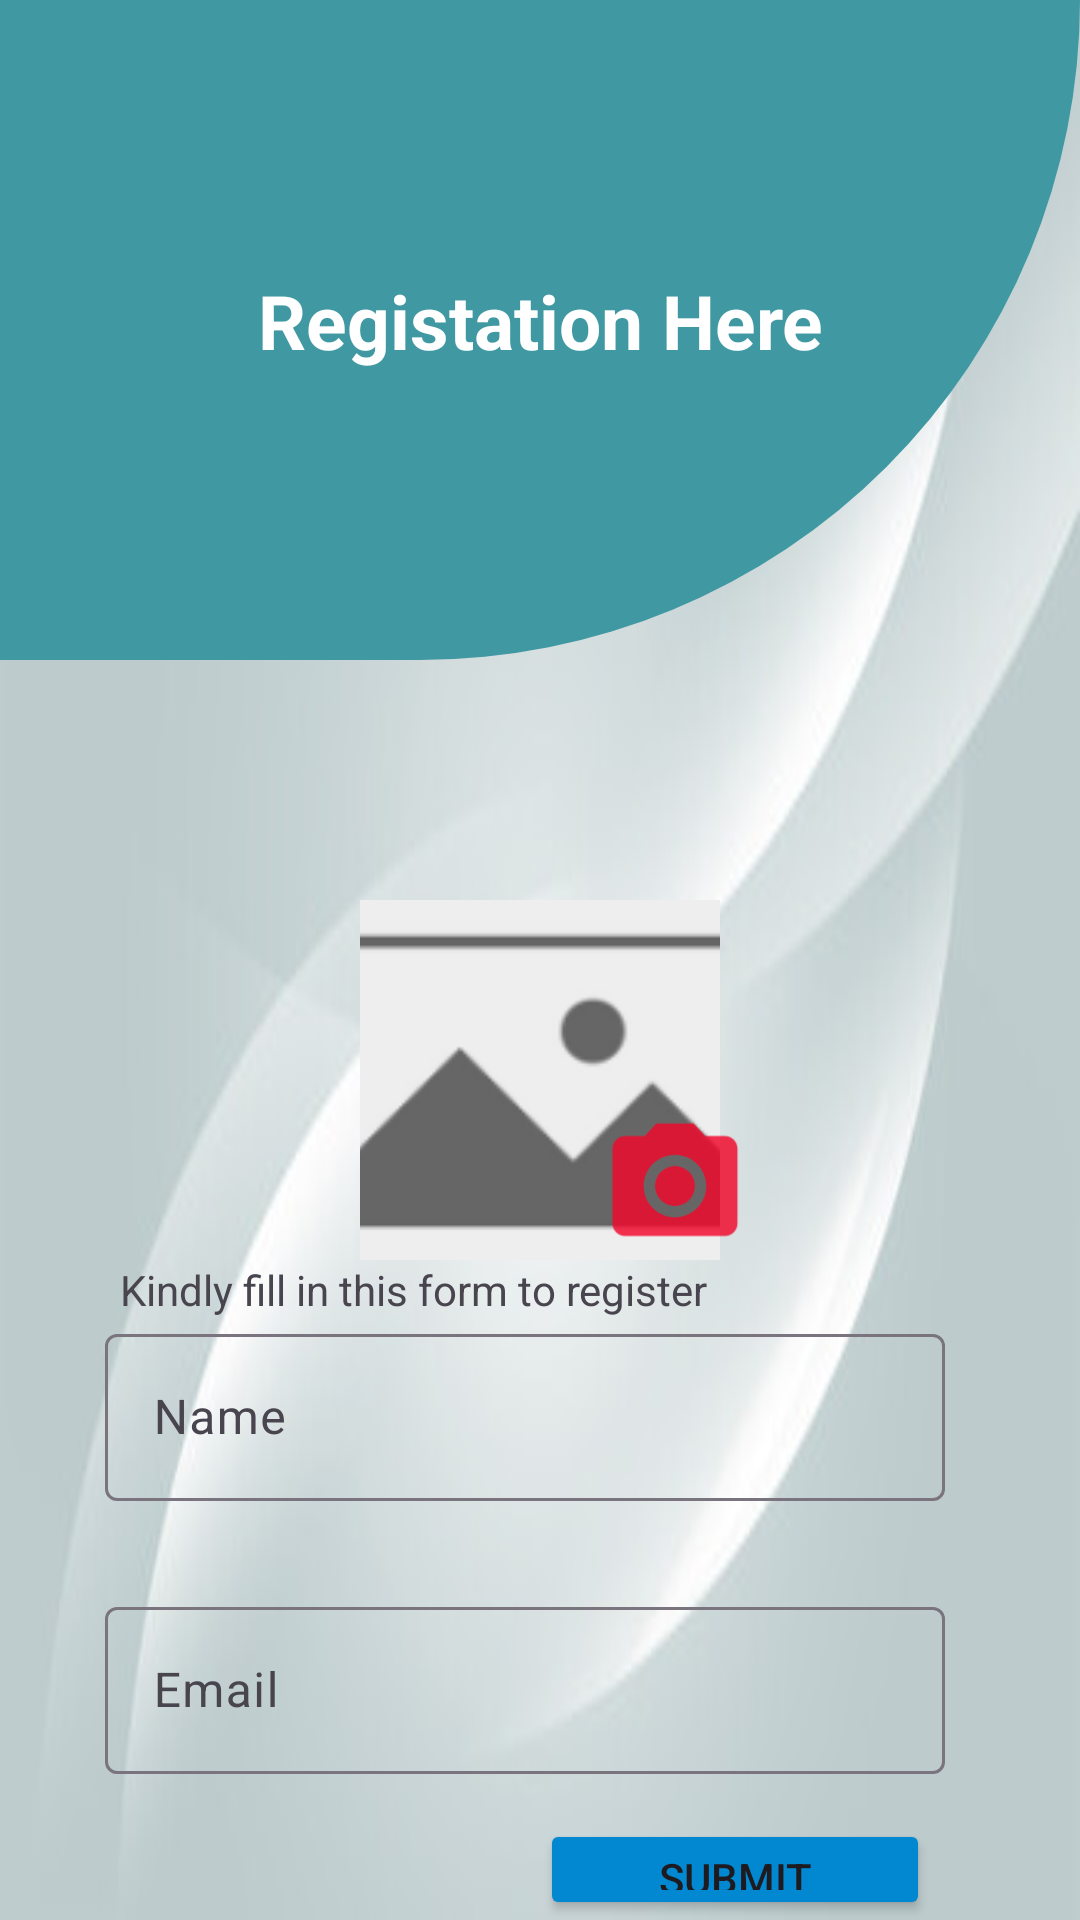

Named icons in this screenshot (1080 × 1920) and their centers, [x,y]:
camera: [669,1174]
